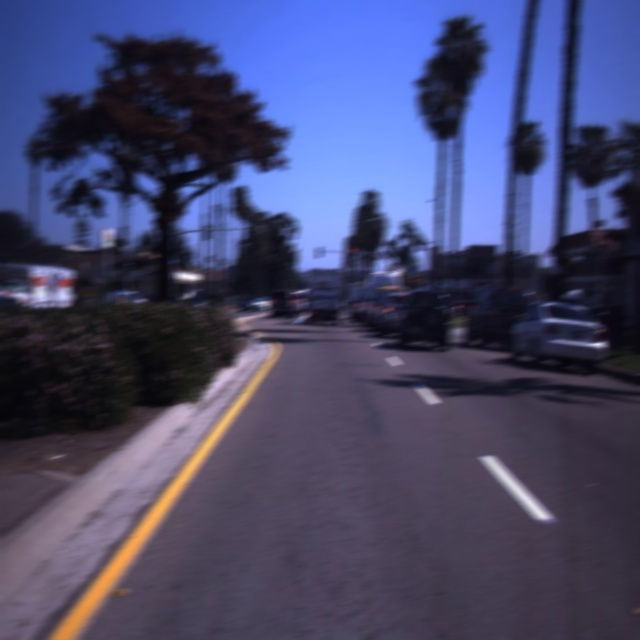stop: (349, 248, 355, 260)
stop traffic light: (349, 248, 355, 260)
